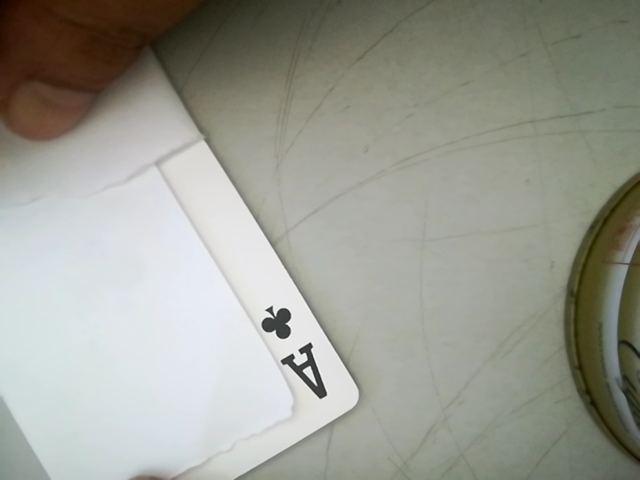mh a: (250, 290, 335, 413)
